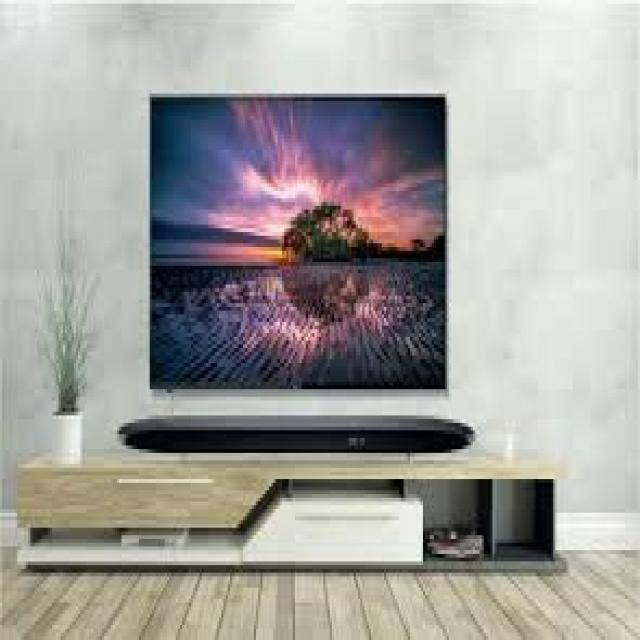tv: (144, 84, 453, 412)
